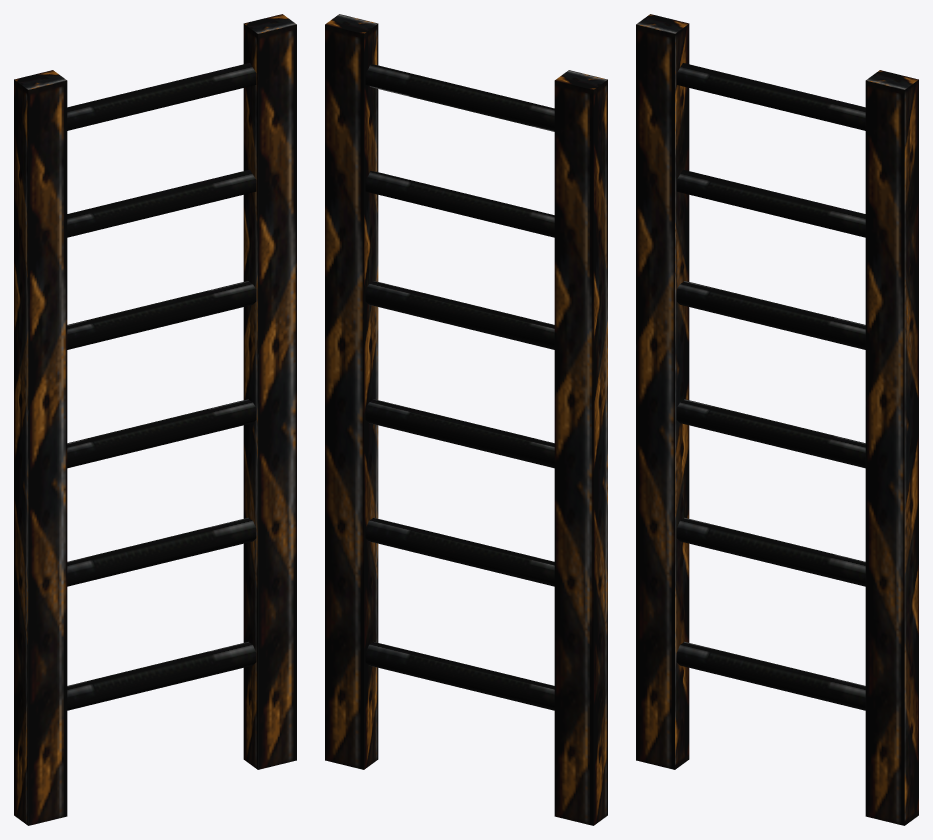
The model's file is trap.obj.
3 views of the same model, side by side, from view 1: azimuth 30°, elevation 25°; view 2: azimuth 150°, elevation 25°; view 3: azimuth 330°, elevation 25° (orthographic).
Visible parts, largest first — view 1: Group; view 2: Group; view 3: Group.
Part boxes in pixels (box(x1,y1,x2,y2)): Group: box(14, 14, 296, 825); Group: box(325, 14, 607, 825); Group: box(636, 14, 918, 825).
Bounding box in the file's own units: 34.12 × 89.33 × 3.17.
